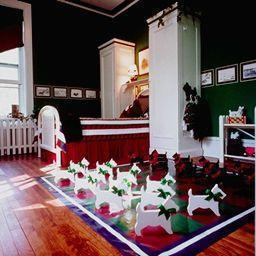Armario: (149, 20, 203, 156)
Cama: (43, 93, 147, 160)
Otro Obstaculo: (135, 203, 180, 238), (187, 187, 228, 214), (95, 183, 128, 214), (139, 186, 177, 208), (144, 174, 177, 191), (74, 170, 98, 190), (116, 167, 143, 182)
